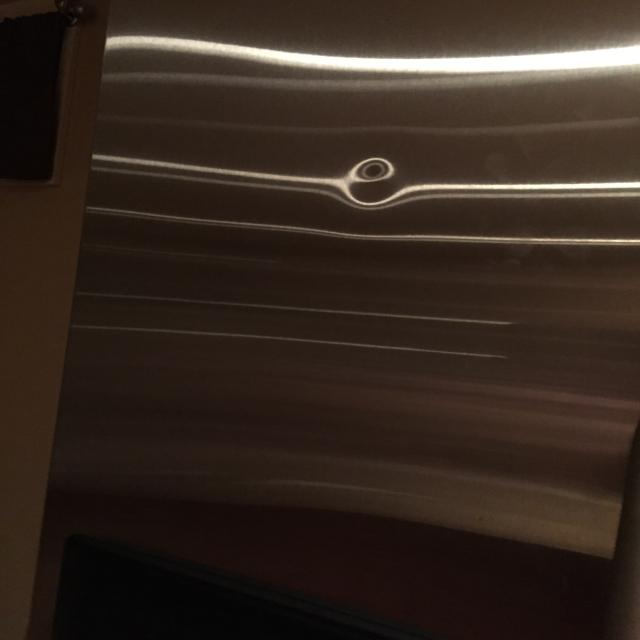dents: (312, 136, 420, 234)
